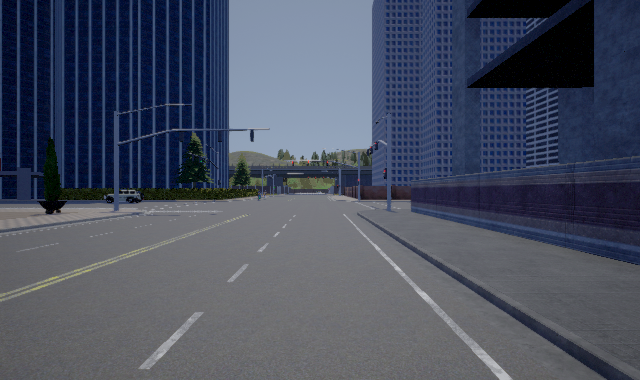traffic_light: (366, 146, 373, 156), (383, 168, 387, 179), (374, 141, 378, 150), (199, 156, 202, 163), (192, 154, 195, 161), (207, 159, 210, 164), (292, 161, 294, 166)
vehicle: (101, 189, 144, 204)
